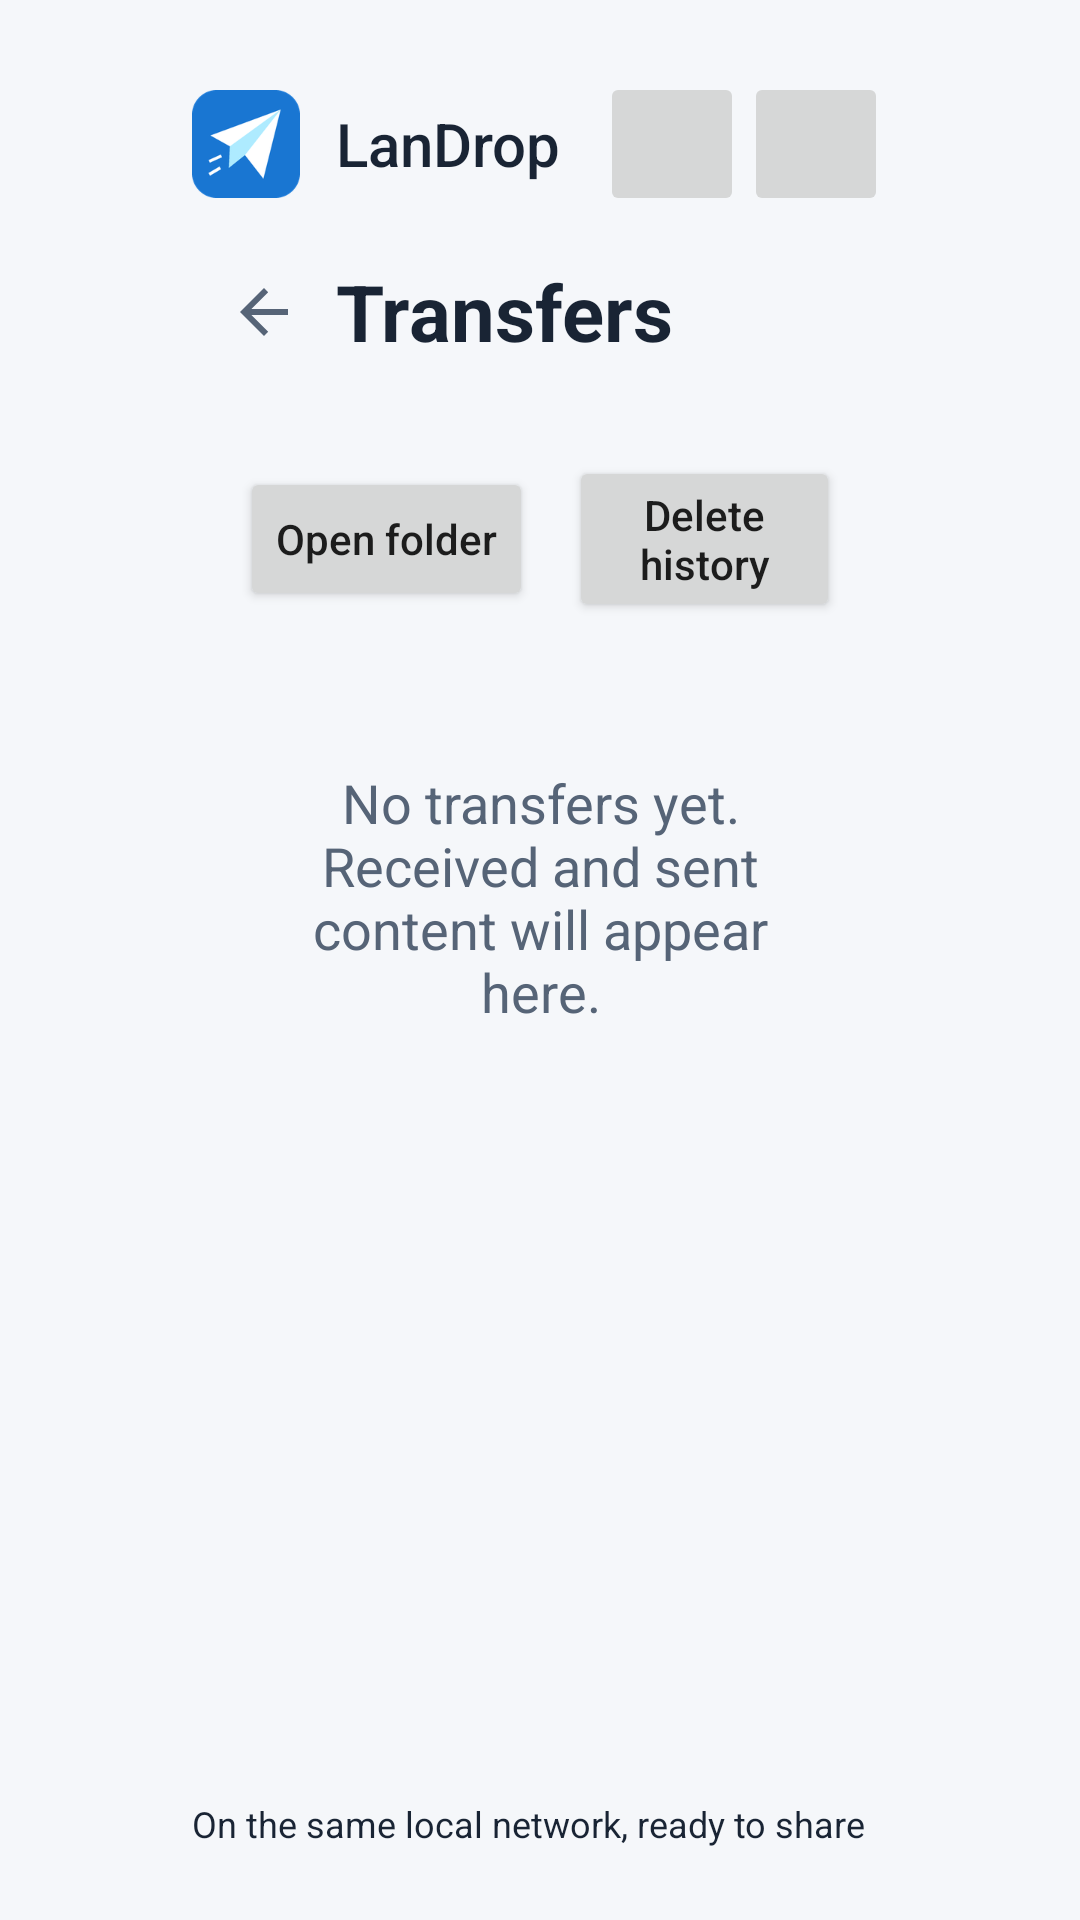

Point at icon controls on the screen. Image size 1080 x 1920, points as [x,y].
Back: [264,312]
